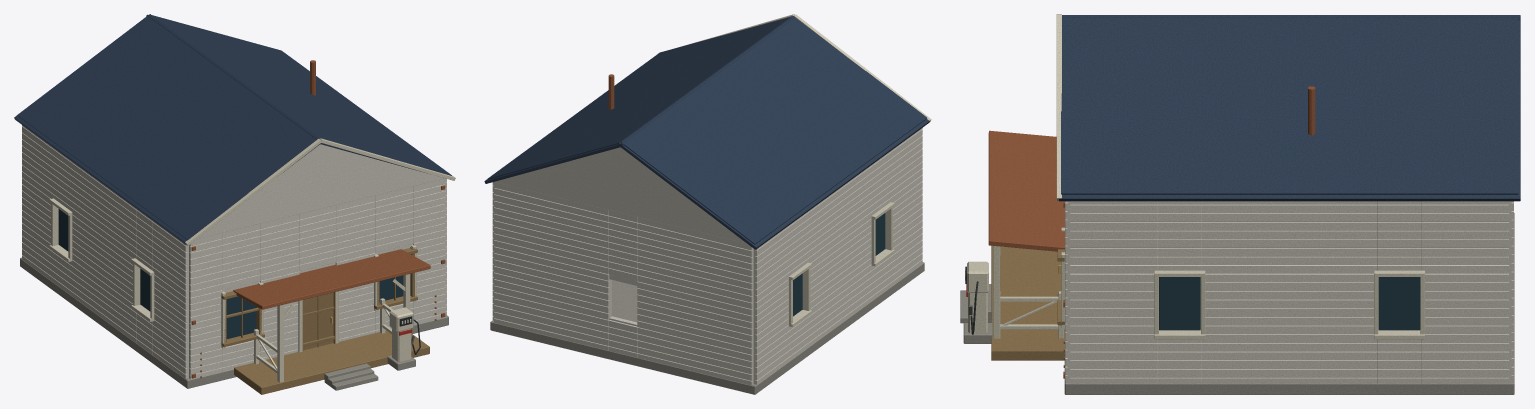
File: RUSTICB2_lod0.glb
3 views of the same model, side by side, from view 1: azimuth 30°, elevation 25°; view 2: azimuth 150°, elevation 25°; view 3: azimuth 270°, elevation 25° (orthographic). The views are drawn at different scales.
Visible parts, largest first — view 1: RUSTICB2_LOD0; view 2: RUSTICB2_LOD0; view 3: RUSTICB2_LOD0.
Part boxes in pixels (x1,y1,x2,y2): RUSTICB2_LOD0: [14, 14, 455, 394]; RUSTICB2_LOD0: [484, 14, 931, 394]; RUSTICB2_LOD0: [960, 14, 1520, 394].
Bounding box in the file's own units: 9.51 × 7.42 × 12.76.
Materials: 14 (11 with a texture image).
